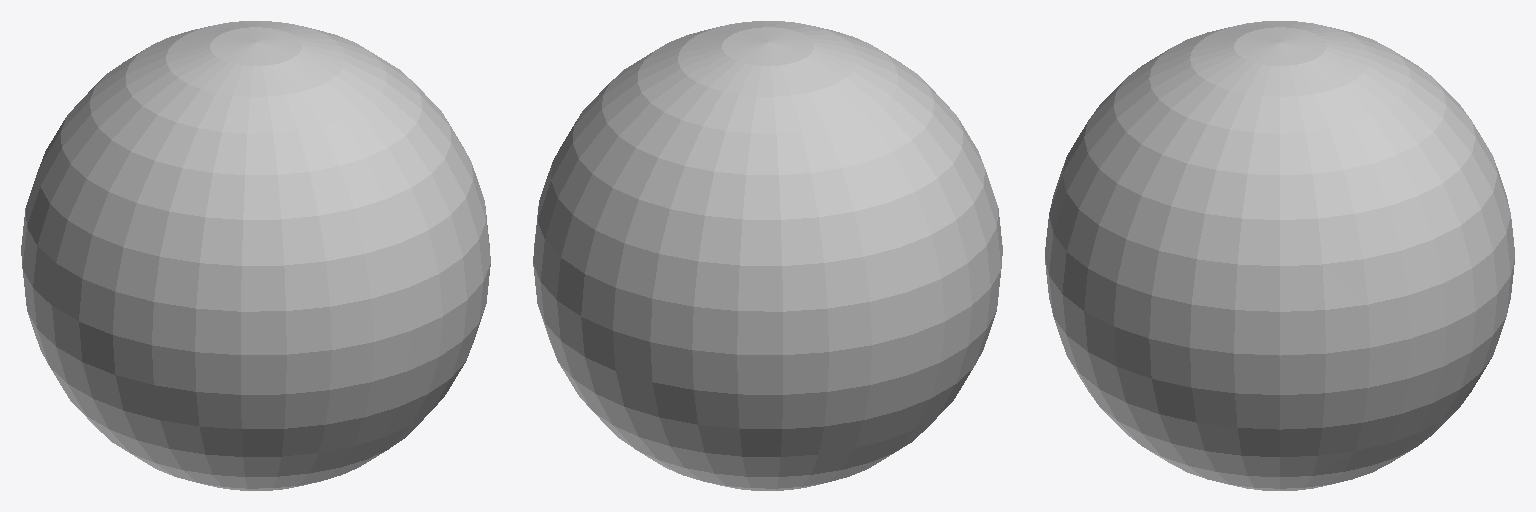
Rendered from pelota.obj.
3 renders of one model, left to right at view 1: azimuth 30°, elevation 25°; view 2: azimuth 150°, elevation 25°; view 3: azimuth 270°, elevation 25°, orthographic.
Visible parts, largest first — view 1: Sphere; view 2: Sphere; view 3: Sphere.
Part boxes in pixels (x1,y1,x2,y2): Sphere: (21, 21, 490, 490); Sphere: (533, 21, 1002, 490); Sphere: (1045, 21, 1514, 490).
Bounding box in the file's own units: 0.1 × 0.1 × 0.1.